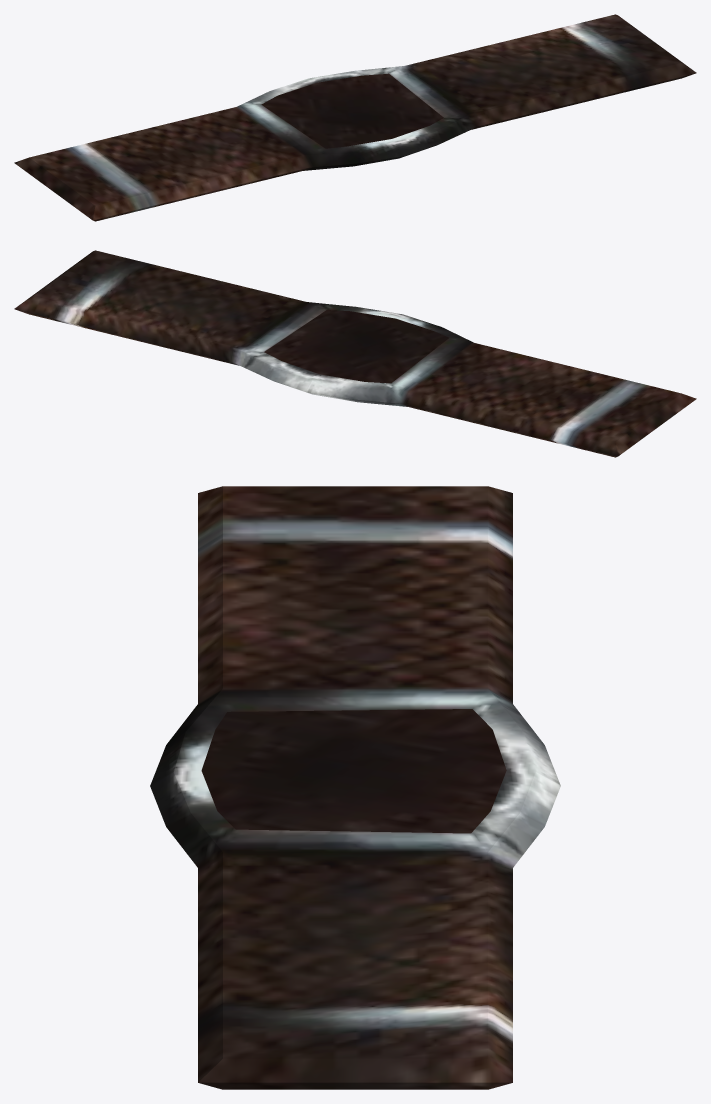
Rendered from KM_BELT_01.glb.
3 renders of one model, top to bottom at view 1: azimuth 30°, elevation 25°; view 2: azimuth 150°, elevation 25°; view 3: azimuth 270°, elevation 25°, orthographic. The views are drawn at different scales.
Visible parts, largest first — view 1: KM_BELT_01; view 2: KM_BELT_01; view 3: KM_BELT_01.
Part boxes in pixels (bbox=[...]): KM_BELT_01: bbox=[14, 14, 696, 221]; KM_BELT_01: bbox=[14, 250, 696, 457]; KM_BELT_01: bbox=[150, 486, 560, 1089].
Size of the model in its own units: 0.372 by 0.0092 by 0.1095.
Materials: 1 (1 with a texture image).
